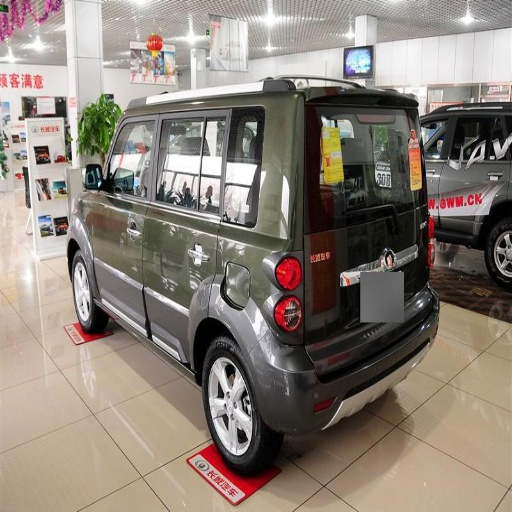back_left_door: (145, 111, 257, 350)
trunk: (300, 233, 420, 352)
